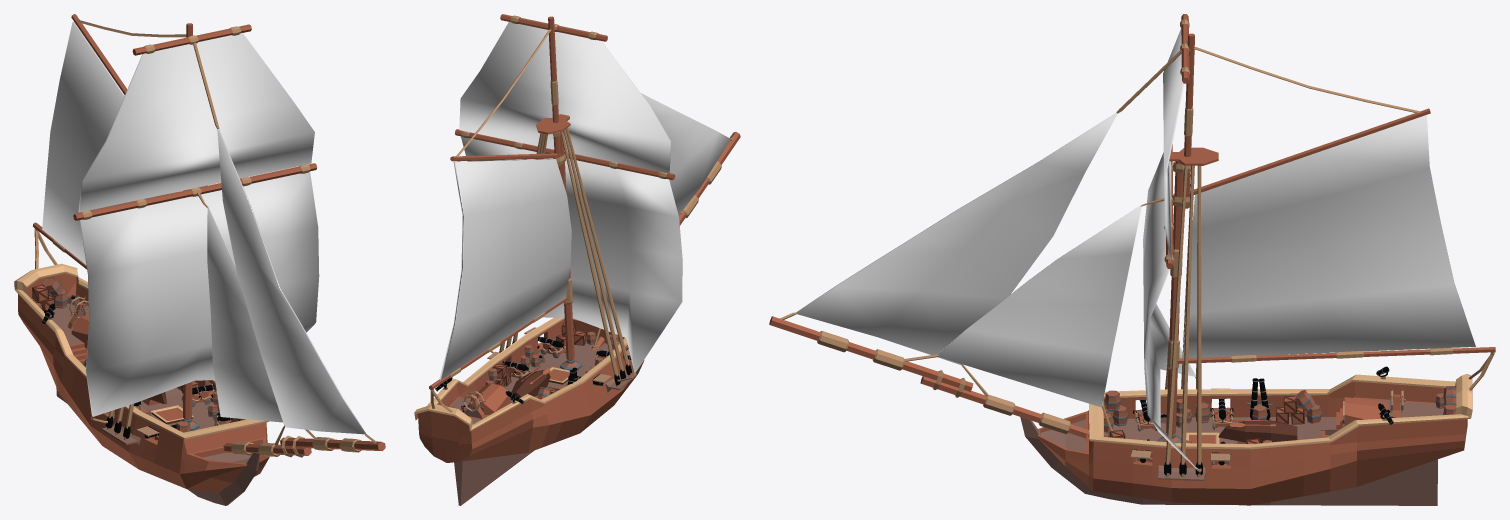
File: traders_tallship.glb
3 views of the same model, side by side, from view 1: azimuth 30°, elevation 25°; view 2: azimuth 150°, elevation 25°; view 3: azimuth 270°, elevation 25° (orthographic). The views are drawn at different scales.
Parts seen in each view (by area): view 1: Cube; view 2: Cube; view 3: Cube.
Boxes of the visible parts, x1,y1,x2,y2 form: Cube: [14, 14, 385, 505]; Cube: [414, 14, 740, 505]; Cube: [769, 14, 1495, 505].
Bounding box in the file's own units: 463 × 833 × 1146.
